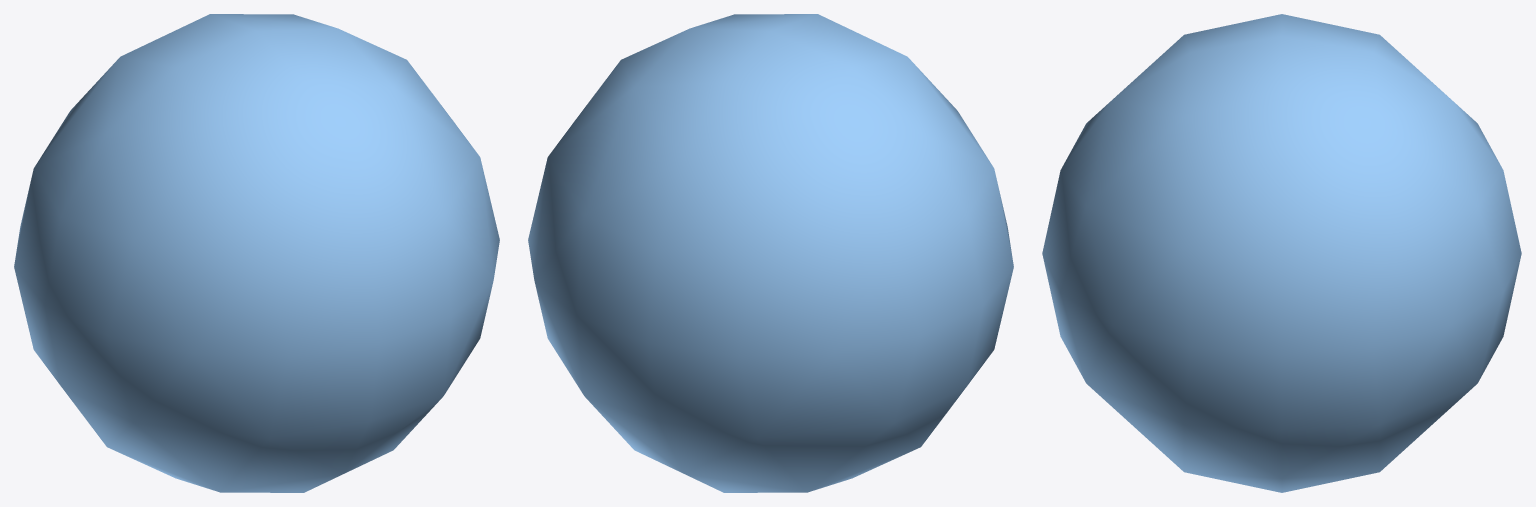
Rendered from validation-handle.glb.
The picture shows the model from 3 angles, left to right: view 1: azimuth 30°, elevation 25°; view 2: azimuth 150°, elevation 25°; view 3: azimuth 270°, elevation 25°; orthographic projection. The views are drawn at different scales.
Parts seen in each view (by area): view 1: Handle encoder; view 2: Handle encoder; view 3: Handle encoder.
Part boxes in pixels (<box>): Handle encoder: <box>14,14,499,492</box>; Handle encoder: <box>528,14,1013,492</box>; Handle encoder: <box>1042,14,1521,492</box>.
Bounding box in the file's own units: 0.006 × 0.006 × 0.006.
